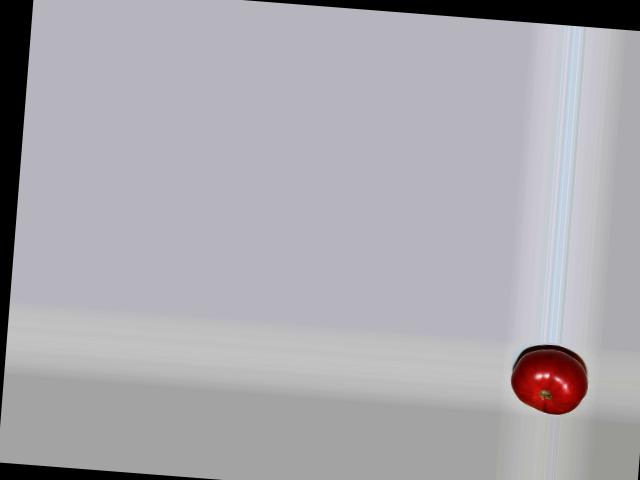tomato: (508, 347, 591, 417)
